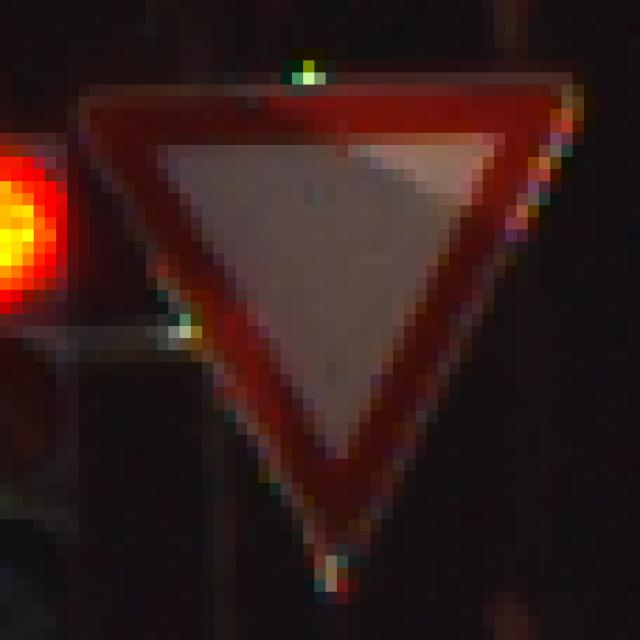Give Way: (68, 62, 585, 581)
